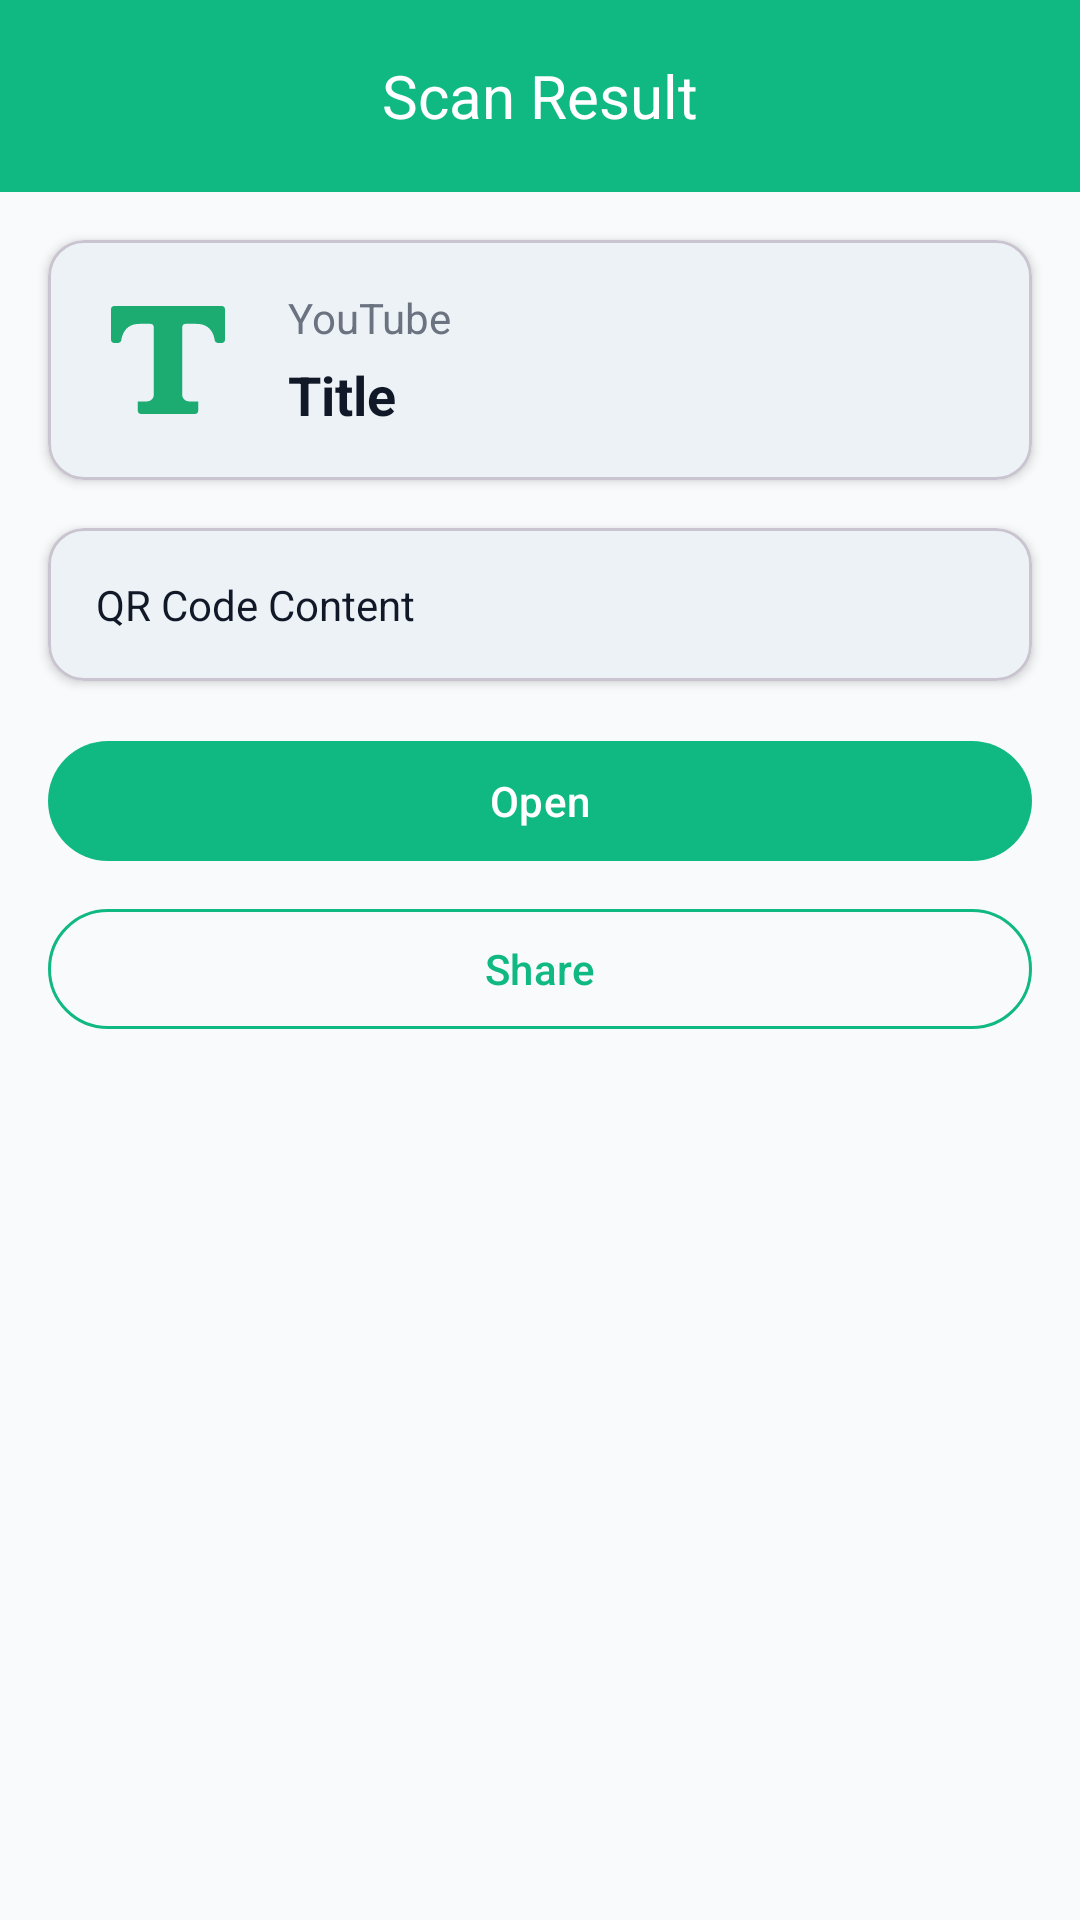

Locate icon controls on the screen. Image size 1080w x 1920h, boxes as bbox(x1, y1, x2, y2).
parse format text: bbox(111, 306, 225, 414)
